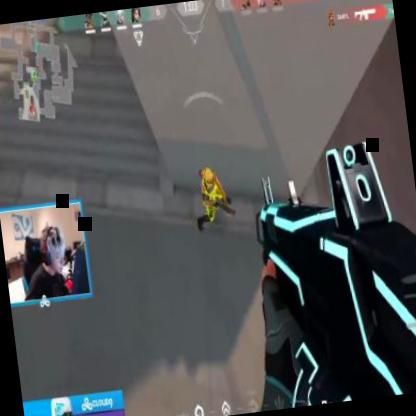enemy: (186, 154, 238, 246)
enemy_head: (202, 166, 214, 187)
